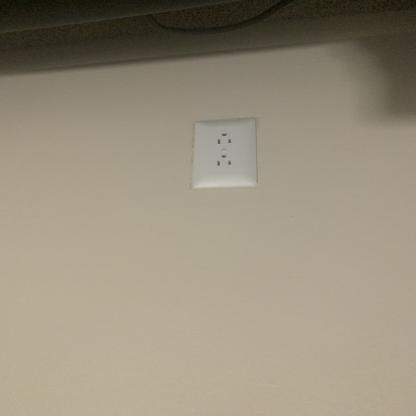OUTLET: (191, 116, 259, 189)
